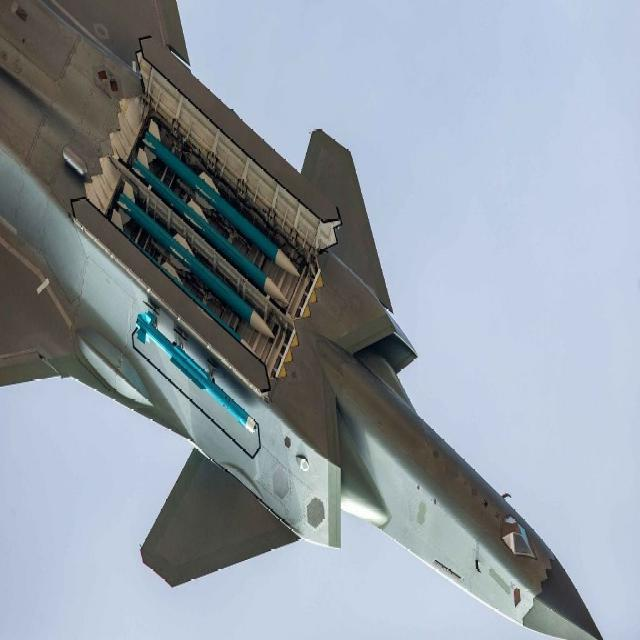Missile: (69, 146, 302, 371), (118, 100, 322, 302), (114, 312, 260, 446)
